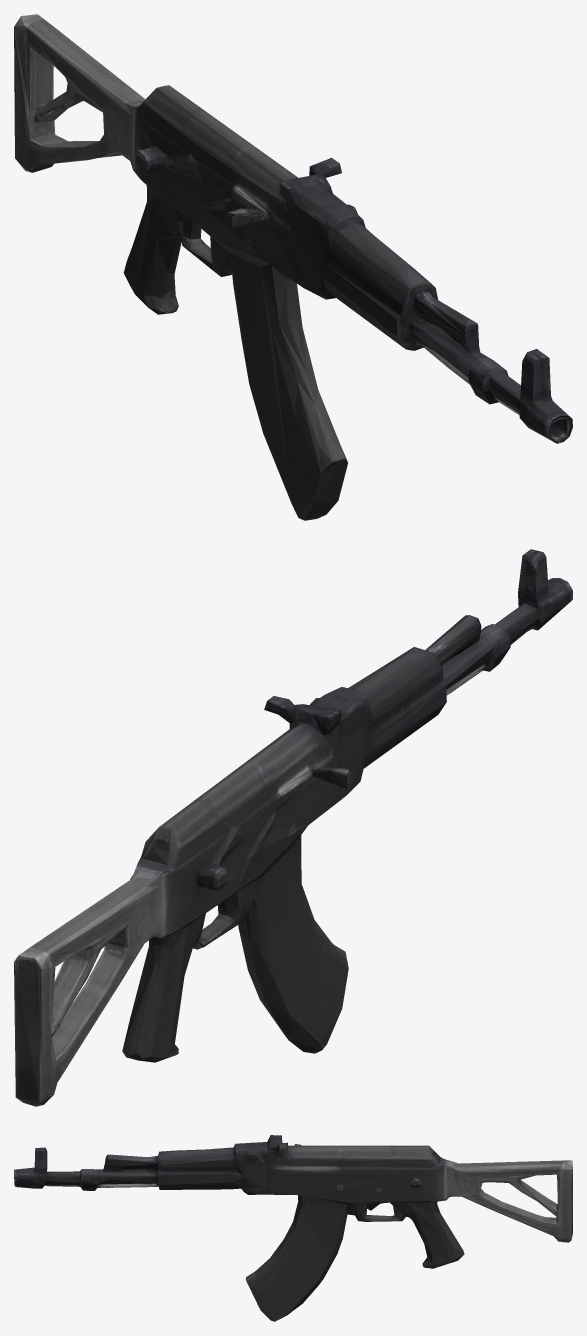
Rendered from black_aks74u.glb.
The picture shows the model from 3 angles, top to bottom: view 1: azimuth 30°, elevation 25°; view 2: azimuth 150°, elevation 25°; view 3: azimuth 270°, elevation 25°; orthographic projection. The views are drawn at different scales.
Visible parts, largest first — view 1: geometry_0; view 2: geometry_0; view 3: geometry_0.
Boxes of the visible parts, left/top/right/bottom form: geometry_0: left=14, top=14, right=572, bottom=520; geometry_0: left=14, top=549, right=572, bottom=1106; geometry_0: left=14, top=1135, right=572, bottom=1321.
Size of the model in its own units: 0.1042 by 0.3611 by 1.
1 material, 1 textured.
